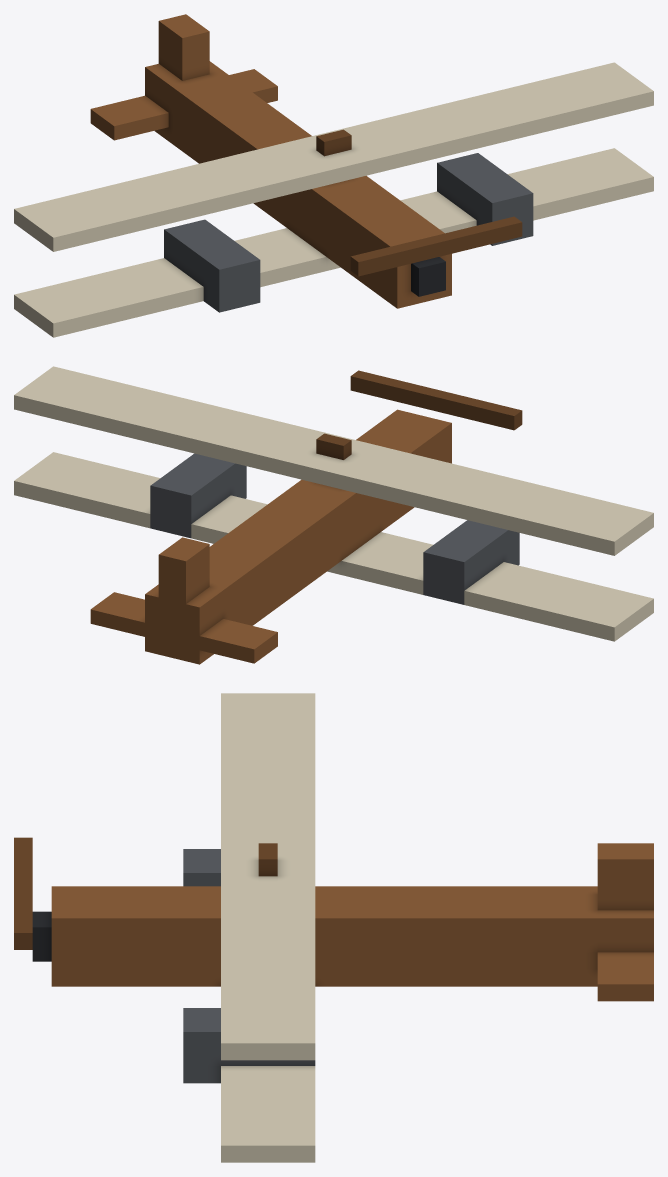
The model's file is u_oldbomber.glb.
The picture shows the model from 3 angles, top to bottom: view 1: azimuth 30°, elevation 25°; view 2: azimuth 150°, elevation 25°; view 3: azimuth 270°, elevation 25°; orthographic projection. The views are drawn at different scales.
Visible parts, largest first — view 1: u_oldbomber_body; view 2: u_oldbomber_body; view 3: u_oldbomber_body.
Boxes of the visible parts, box(x1,y1,x2,y2) form: u_oldbomber_body: box(14, 14, 653, 337); u_oldbomber_body: box(14, 366, 653, 664); u_oldbomber_body: box(14, 693, 653, 1162).
Bounding box in the file's own units: 2.75 × 0.5 × 2.12.
1 material, 1 textured.
